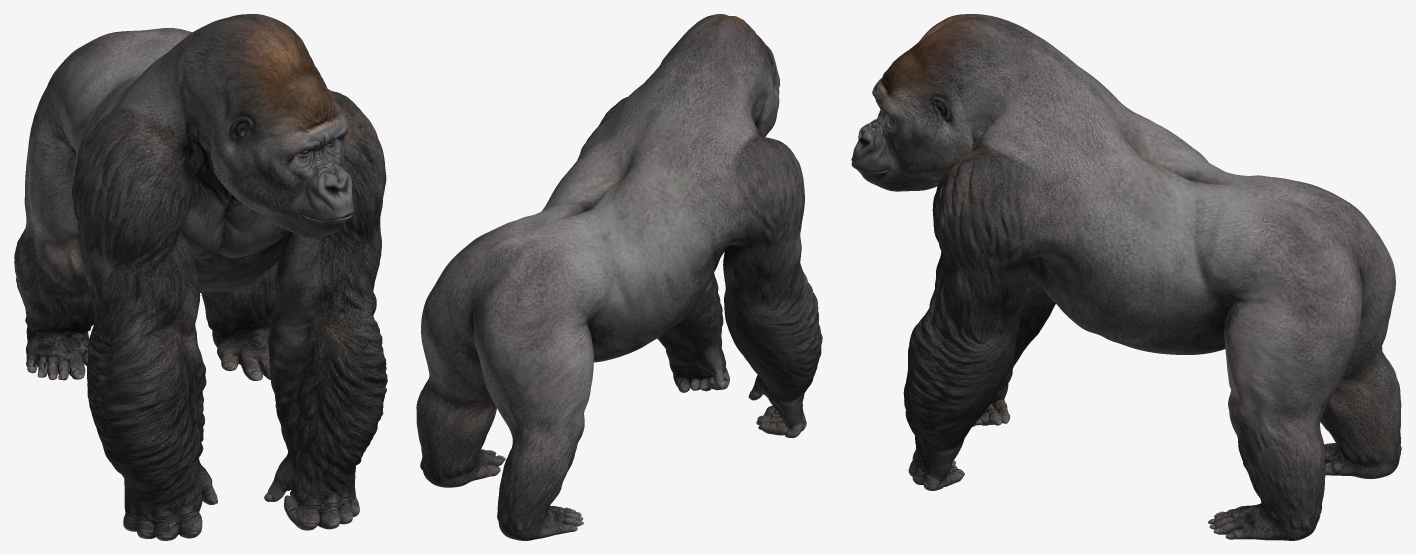
Rendered from wild-gorilla.glb.
3 renders of one model, left to right at view 1: azimuth 30°, elevation 25°; view 2: azimuth 150°, elevation 25°; view 3: azimuth 270°, elevation 25°, orthographic. The views are drawn at different scales.
Parts seen in each view (by area): view 1: gorilla; view 2: gorilla; view 3: gorilla.
Boxes of the visible parts, <box> form: gorilla: <box>14,14,387,540</box>; gorilla: <box>416,14,822,540</box>; gorilla: <box>851,14,1401,540</box>.
Size of the model in its own units: 1.08 by 1.5 by 1.7.
1 material, 1 textured.
